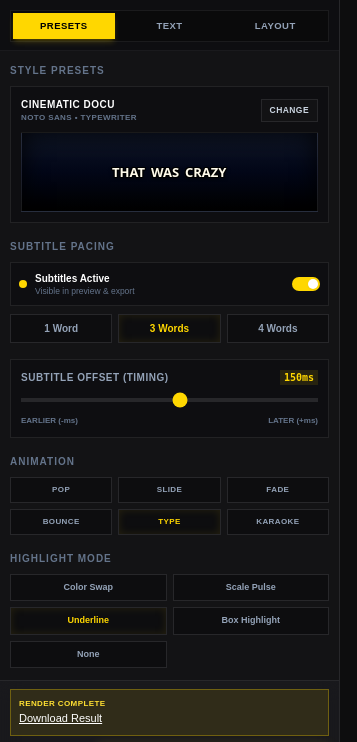
Test: SidebarSettings Component › renders stacked speaker zoom sliders in face_tracking mode when split mode is active
// Click Layout tab
Click the button with class "tab-btn" showing "Layout": {"x": 275, "y": 26} [224,13,326,39]
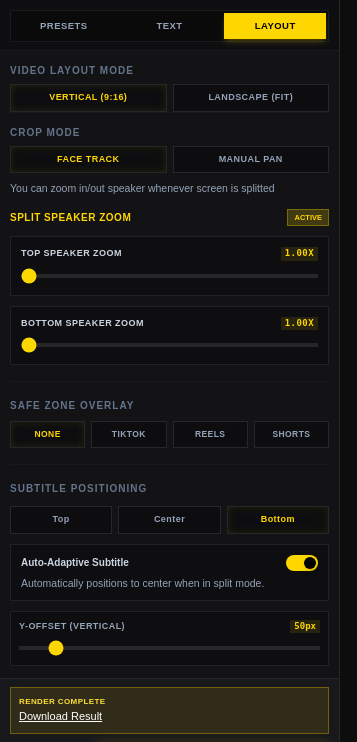
Now the text "Split Speaker Zoom" is shown, box [10,210,131,225]
Now the text "Top Speaker Zoom" is shown, box [21,247,122,261]
Now the text "Bottom Speaker Zoom" is shown, box [21,317,144,330]
